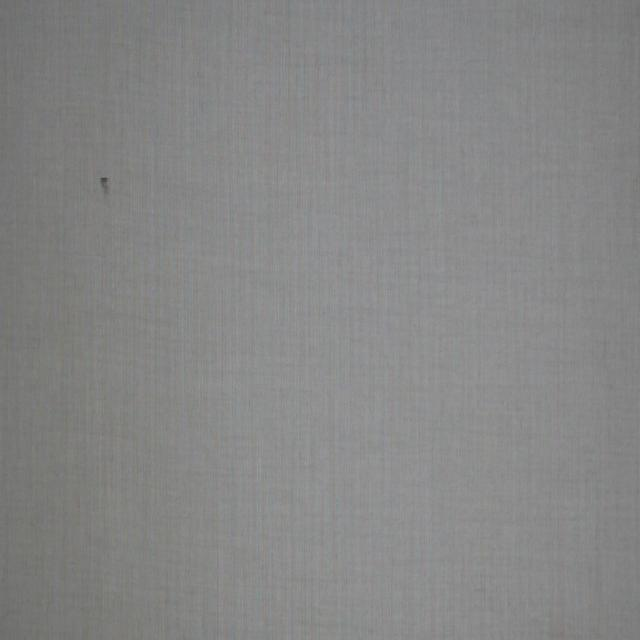dirty: (99, 178, 108, 198)
